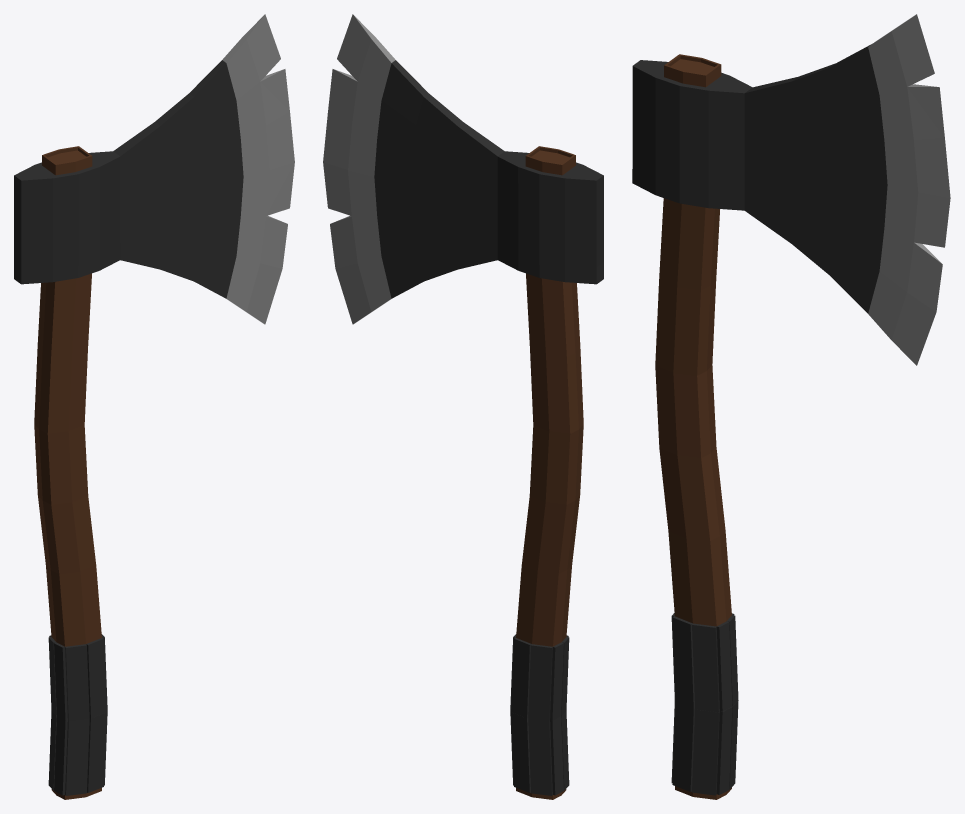
The model's file is axe.glb.
The picture shows the model from 3 angles, left to right: view 1: azimuth 30°, elevation 25°; view 2: azimuth 150°, elevation 25°; view 3: azimuth 330°, elevation 25°; orthographic projection. The views are drawn at different scales.
Visible parts, largest first — view 1: Handle_Material.002_0; view 2: Handle_Material.002_0; view 3: Handle_Material.002_0.
Boxes of the visible parts, left/top/right/bottom form: Handle_Material.002_0: left=14, top=14, right=294, bottom=799; Handle_Material.002_0: left=323, top=14, right=603, bottom=799; Handle_Material.002_0: left=632, top=14, right=950, bottom=799.
Size of the model in its own units: 5.6 by 14.1 by 0.7928.
